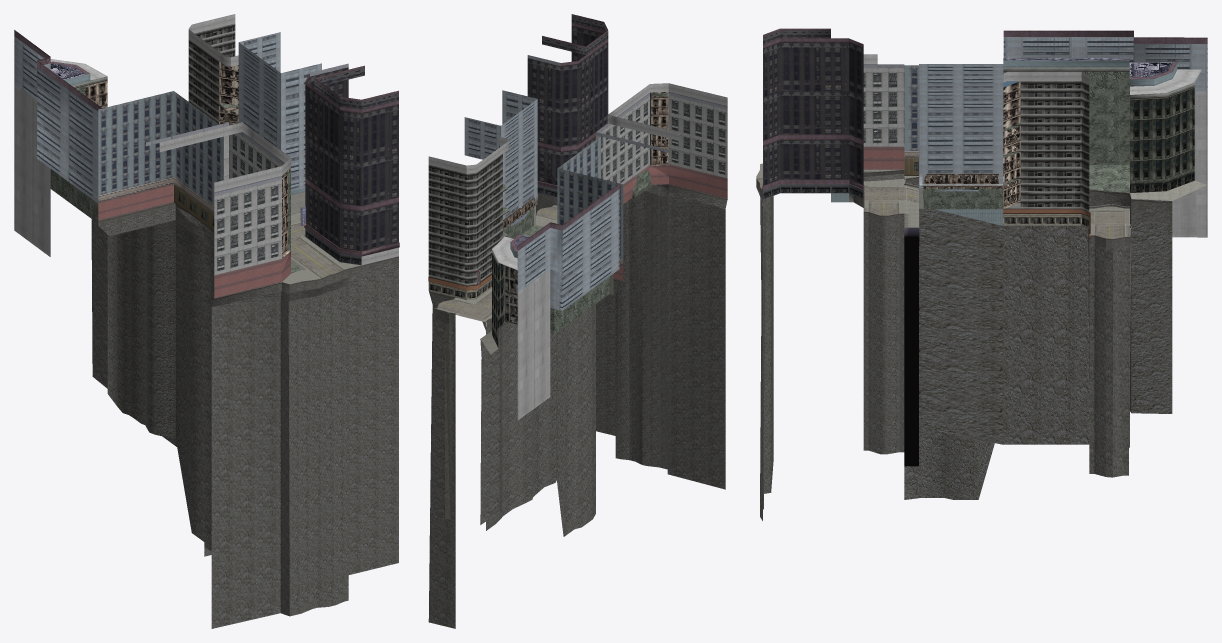
File: STG0100_OS_02.fbx
3 views of the same model, side by side, from view 1: azimuth 30°, elevation 25°; view 2: azimuth 150°, elevation 25°; view 3: azimuth 270°, elevation 25° (orthographic). The views are drawn at different scales.
Visible parts, largest first — view 1: STG0100_OS_02_default; view 2: STG0100_OS_02_default; view 3: STG0100_OS_02_default.
Part boxes in pixels (x1,y1,x2,y2): STG0100_OS_02_default: (14,14,399,628); STG0100_OS_02_default: (428,14,727,628); STG0100_OS_02_default: (756,28,1207,520).
Size of the model in its own units: 837 by 2511 by 1783.
